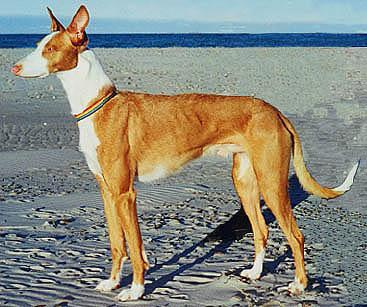Ibizan_hound: (9, 5, 357, 299)
